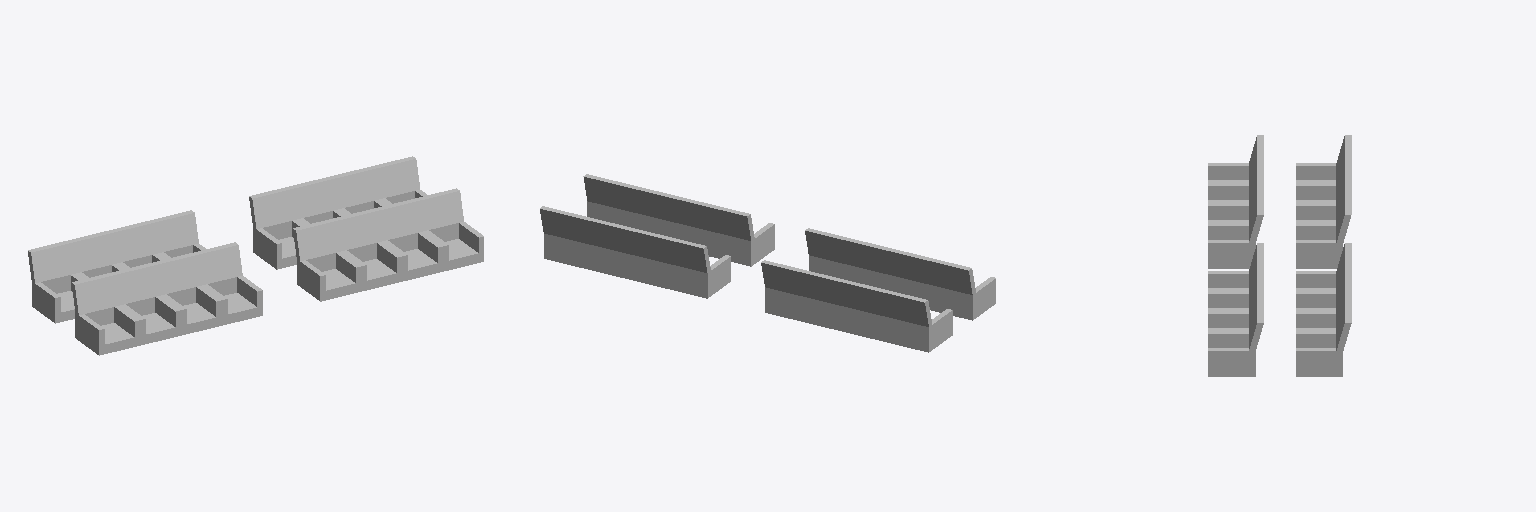
File: cadeiras.obj
3 renders of one model, left to right at view 1: azimuth 30°, elevation 25°; view 2: azimuth 150°, elevation 25°; view 3: azimuth 270°, elevation 25°, orthographic.
Parts seen in each view (by area): view 1: cadeira.007, cadeira.003, cadeira.004, cadeira.000, cadeira.002, cadeira.006, cadeira.001, cadeira.005, cadeira.008, cadeira.012, cadeira.015, cadeira.009 (+4 smaller); view 2: cadeira.012, cadeira.008, cadeira.003, cadeira.007, cadeira.010, cadeira.013, cadeira.014, cadeira.015, cadeira.009, cadeira.011, cadeira.006, cadeira.002 (+4 smaller); view 3: cadeira.000, cadeira.011, cadeira.004, cadeira.015, cadeira.002, cadeira.001, cadeira.003, cadeira.005, cadeira.006, cadeira.007, cadeira.008, cadeira.009 (+4 smaller).
Boxes of the visible parts, x1=… form: cadeira.007: x1=71, y1=272, x2=139, y2=355; cadeira.003: x1=293, y1=218, x2=360, y2=301; cadeira.004: x1=195, y1=242, x2=262, y2=325; cadeira.000: x1=416, y1=188, x2=483, y2=271; cadeira.002: x1=334, y1=208, x2=401, y2=291; cadeira.006: x1=113, y1=262, x2=180, y2=345; cadeira.001: x1=375, y1=198, x2=442, y2=281; cadeira.005: x1=154, y1=252, x2=221, y2=335; cadeira.008: x1=249, y1=186, x2=303, y2=269; cadeira.012: x1=28, y1=240, x2=82, y2=323; cadeira.015: x1=151, y1=210, x2=205, y2=258; cadeira.009: x1=290, y1=176, x2=344, y2=224; cadeira.012: x1=884, y1=290, x2=952, y2=352; cadeira.008: x1=663, y1=236, x2=730, y2=298; cadeira.003: x1=706, y1=204, x2=774, y2=266; cadeira.007: x1=928, y1=258, x2=995, y2=320; cadeira.010: x1=581, y1=216, x2=625, y2=278; cadeira.013: x1=843, y1=280, x2=887, y2=342; cadeira.014: x1=802, y1=270, x2=846, y2=332; cadeira.015: x1=761, y1=260, x2=805, y2=322; cadeira.009: x1=622, y1=226, x2=666, y2=288; cadeira.011: x1=540, y1=206, x2=584, y2=268; cadeira.006: x1=887, y1=248, x2=931, y2=310; cadeira.002: x1=665, y1=194, x2=709, y2=256; cadeira.000: x1=1208, y1=303, x2=1263, y2=376; cadeira.011: x1=1296, y1=303, x2=1351, y2=376; cadeira.004: x1=1208, y1=195, x2=1263, y2=268; cadeira.015: x1=1296, y1=195, x2=1351, y2=268; cadeira.002: x1=1208, y1=263, x2=1263, y2=310; cadeira.001: x1=1208, y1=283, x2=1263, y2=330; cadeira.003: x1=1208, y1=243, x2=1263, y2=290; cadeira.005: x1=1208, y1=175, x2=1263, y2=222; cadeira.006: x1=1208, y1=155, x2=1263, y2=202; cadeira.007: x1=1208, y1=135, x2=1263, y2=182; cadeira.008: x1=1296, y1=243, x2=1351, y2=290; cadeira.009: x1=1296, y1=263, x2=1351, y2=310.
Bounding box in the file's own units: 18.8 × 2.48 × 6.04.